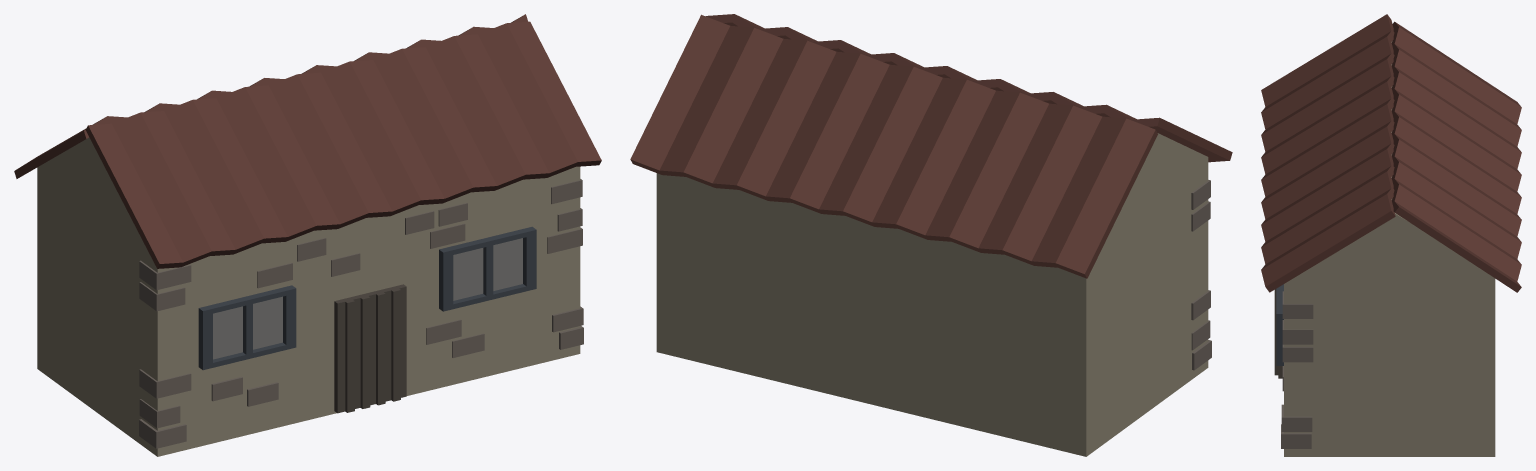
The model's file is WIDE HOUSE RED ROOF.fbx.
3 views of the same model, side by side, from view 1: azimuth 30°, elevation 25°; view 2: azimuth 150°, elevation 25°; view 3: azimuth 270°, elevation 25° (orthographic). The views are drawn at different scales.
Parts seen in each view (by area): view 1: pCube1, pCube2, pCube4, pCube5, pCube6, pCube3, pCube9, pCube10, pCube7, pCube11, pCube8, pCube14 (+7 smaller); view 2: pCube1, pCube3, pCube2; view 3: pCube1, pCube2, pCube3, pCube6, pCube12, pCube15, pCube14, pCube13, pCube16, pCube4.
Part boxes in pixels (x1,y1,x2,y2): pCube1: [37, 137, 580, 456]; pCube2: [86, 21, 601, 268]; pCube4: [334, 284, 406, 413]; pCube5: [198, 285, 296, 370]; pCube6: [439, 226, 536, 311]; pCube3: [14, 14, 527, 178]; pCube9: [139, 369, 191, 398]; pCube10: [139, 260, 191, 290]; pCube7: [139, 419, 186, 448]; pCube11: [139, 282, 185, 311]; pCube8: [139, 399, 180, 428]; pCube14: [547, 227, 582, 253]; pCube1: [656, 133, 1208, 456]; pCube3: [630, 14, 1157, 278]; pCube2: [706, 14, 1232, 162]; pCube1: [1284, 41, 1495, 456]; pCube2: [1261, 14, 1395, 292]; pCube3: [1391, 21, 1521, 292]; pCube6: [1276, 284, 1283, 365]; pCube12: [1281, 404, 1312, 431]; pCube15: [1282, 320, 1313, 344]; pCube14: [1282, 344, 1313, 362]; pCube13: [1281, 424, 1311, 448]; pCube16: [1282, 291, 1313, 318]; pCube4: [1274, 289, 1282, 378].
Bounding box in the file's own units: 14.75 × 9.24 × 8.51.
